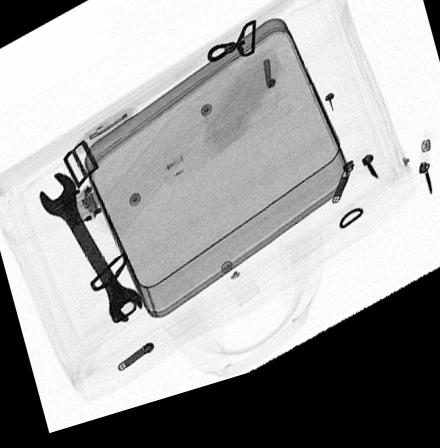Wrench: (39, 176, 143, 331)
